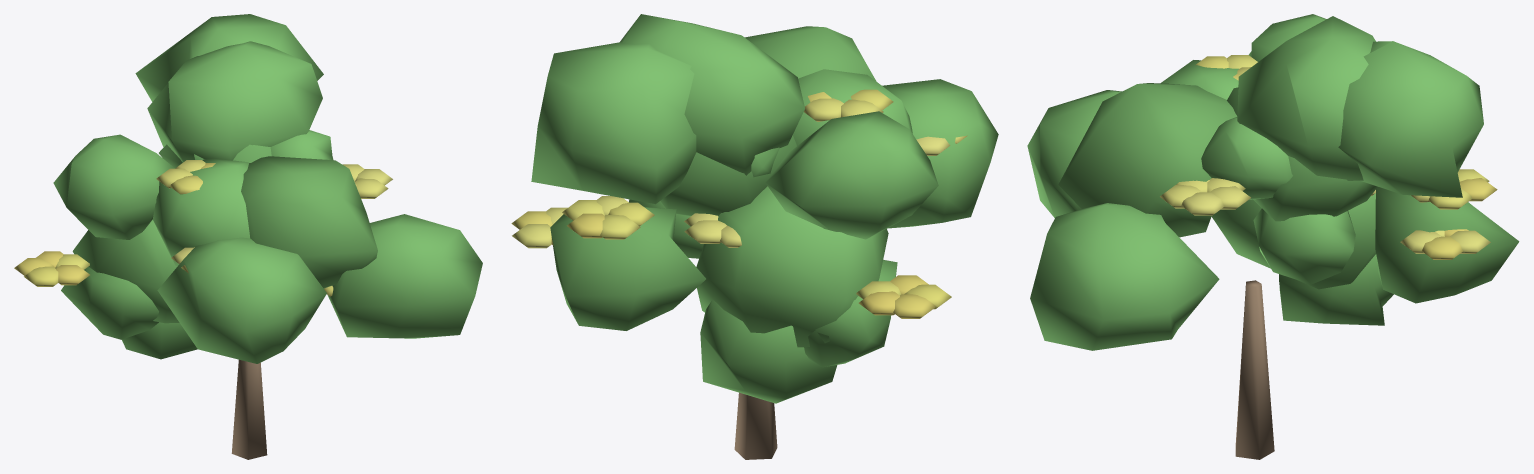
Rendered from blossom_1.glb.
3 views of the same model, side by side, from view 1: azimuth 30°, elevation 25°; view 2: azimuth 150°, elevation 25°; view 3: azimuth 270°, elevation 25° (orthographic). The views are drawn at different scales.
Parts seen in each view (by area): view 1: blossom; view 2: blossom; view 3: blossom.
Boxes of the visible parts, bbox=[...] form: blossom: bbox=[14, 14, 482, 459]; blossom: bbox=[511, 14, 998, 459]; blossom: bbox=[1027, 14, 1519, 459].
Bounding box in the file's own units: 0.6139 × 0.6159 × 0.6391.
